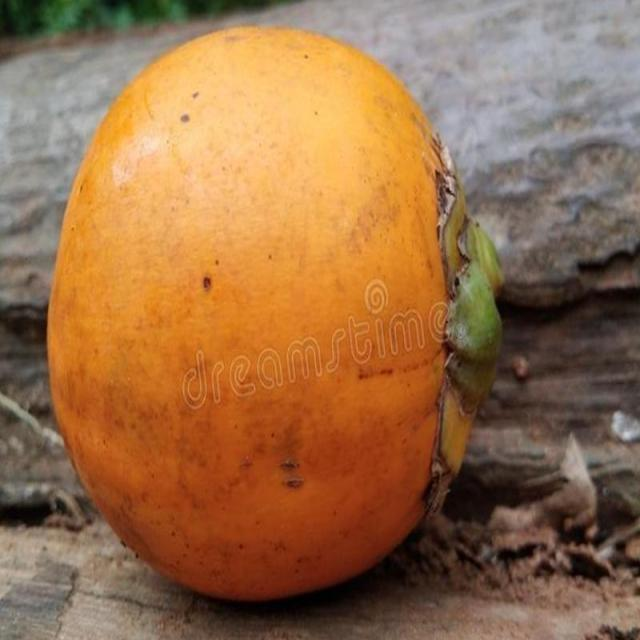good: (46, 27, 503, 608)
